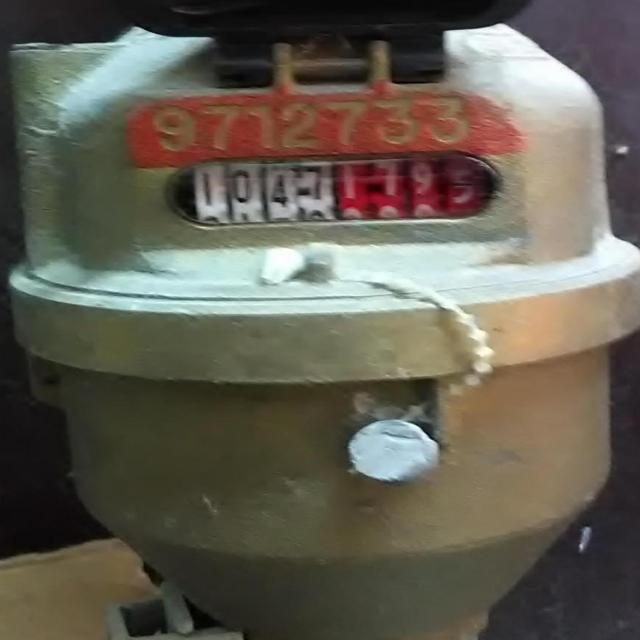gaz_meter: (37, 43, 573, 295)
indication: (187, 156, 487, 228)
